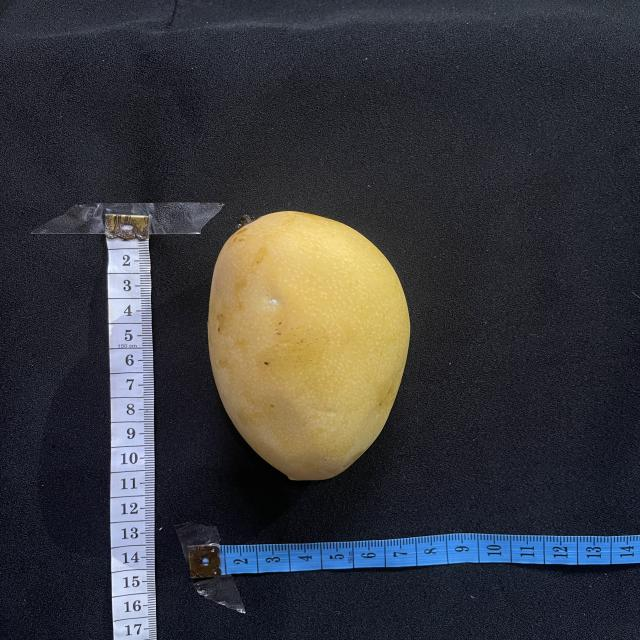Ripe: (208, 211, 410, 480)
